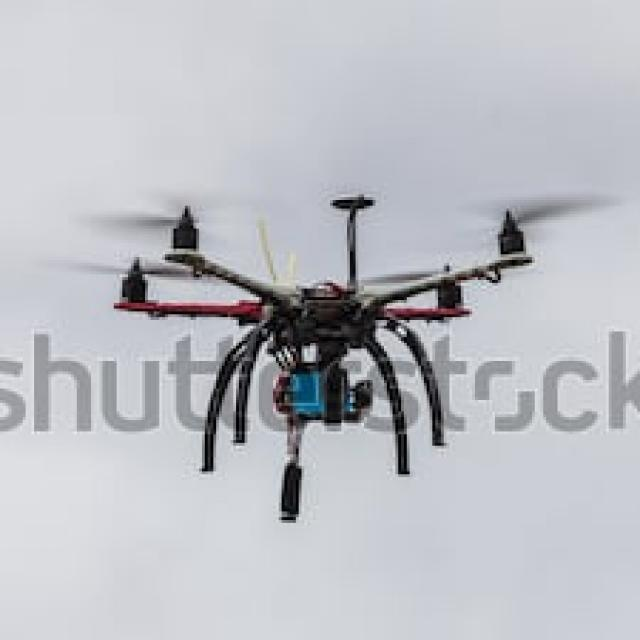drone: (51, 174, 586, 434)
